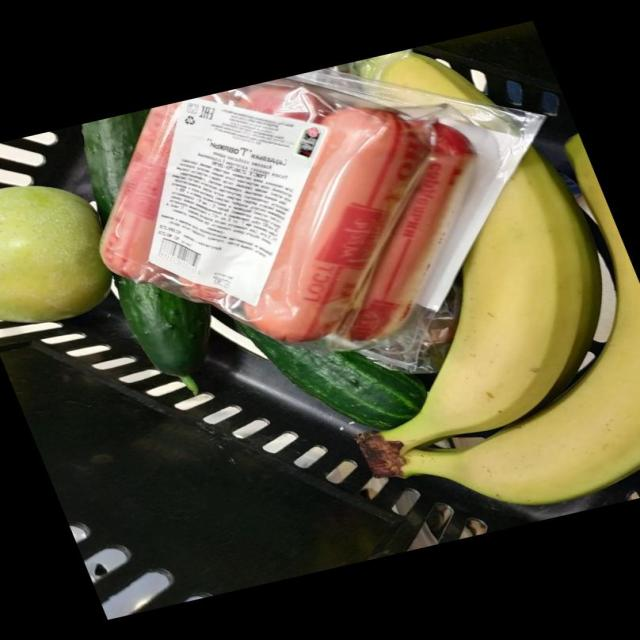Apple: (0, 186, 110, 322)
Banana: (398, 134, 640, 504), (358, 149, 600, 472), (378, 53, 488, 104)
Cucumber: (239, 324, 425, 429), (114, 276, 209, 392), (80, 108, 149, 222)
Sausages: (100, 69, 540, 368)
